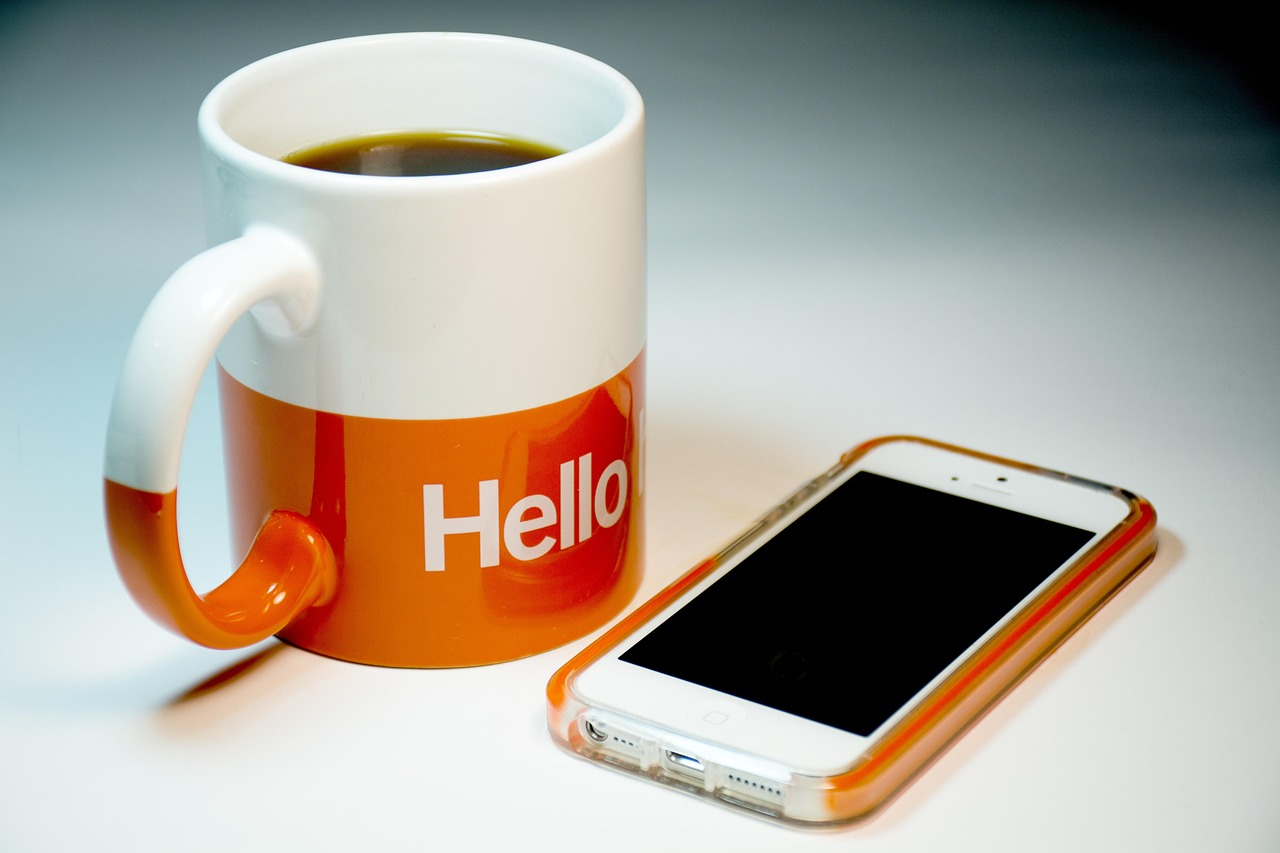mug: (85, 41, 669, 700)
